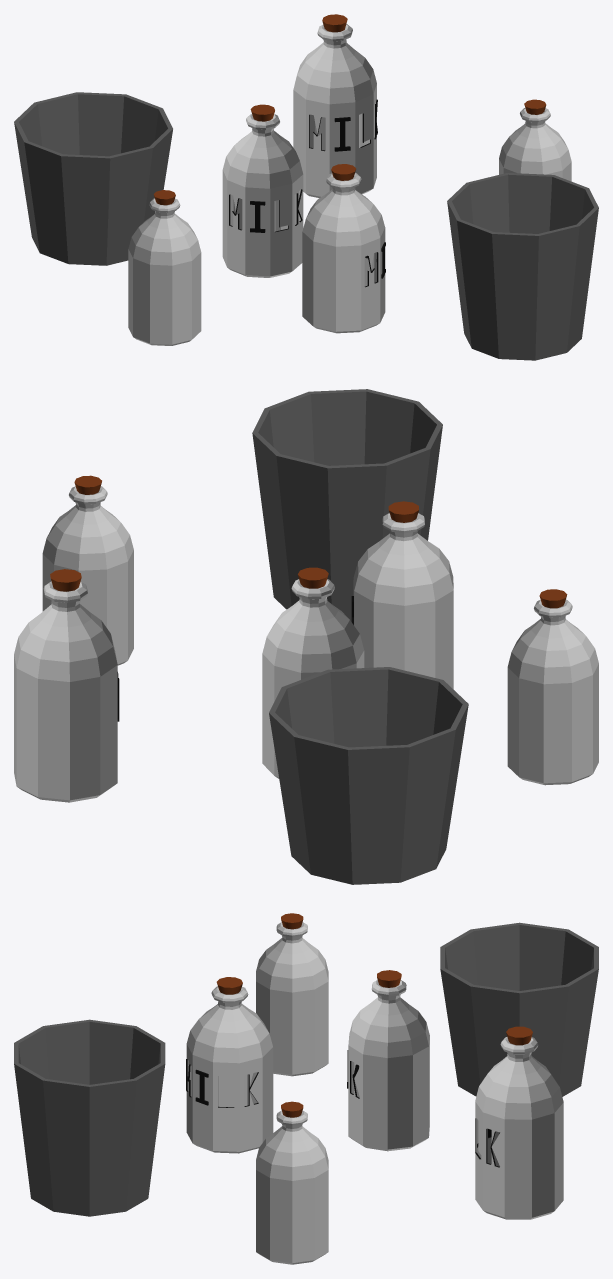
Rendered from Objet Grange#2.FBX.
3 views of the same model, one above another, from view 1: azimuth 30°, elevation 25°; view 2: azimuth 150°, elevation 25°; view 3: azimuth 270°, elevation 25° (orthographic). The views are drawn at different scales.
Visible parts, largest first — view 1: Bouteille et Seau; view 2: Bouteille et Seau; view 3: Bouteille et Seau.
Boxes of the visible parts, box(x1,y1,x2,y2) form: Bouteille et Seau: box(14, 14, 598, 360); Bouteille et Seau: box(14, 389, 598, 884); Bouteille et Seau: box(14, 913, 598, 1264).
Size of the model in its own units: 161 by 58.61 by 181.
